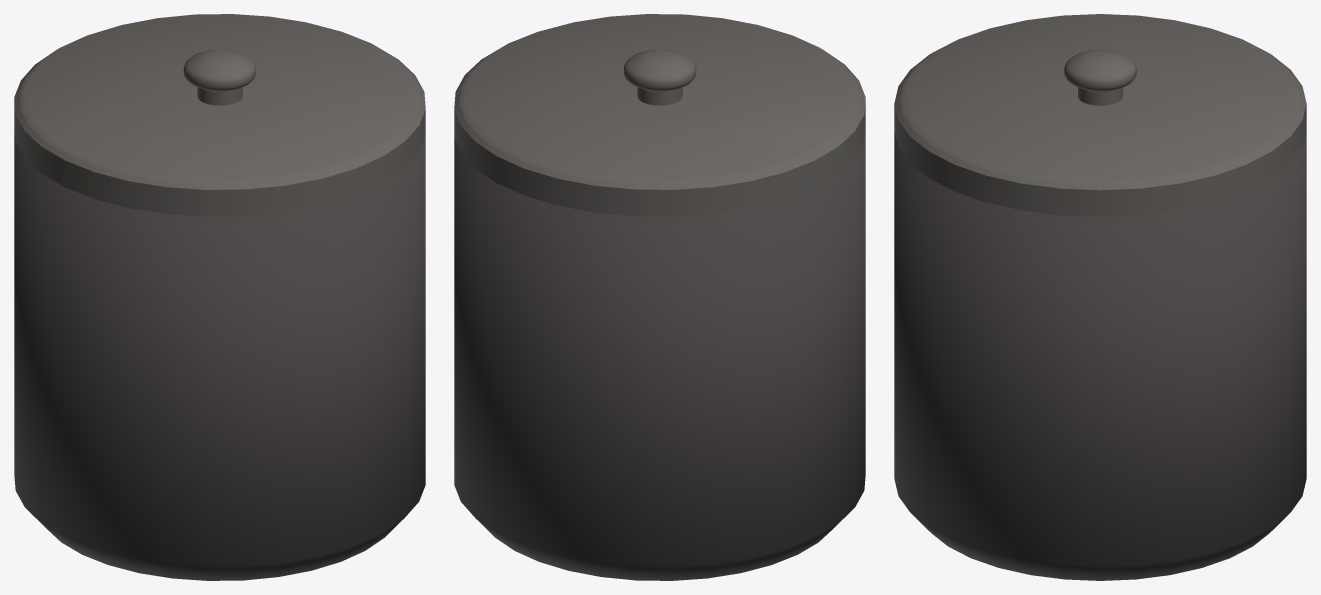
Rendered from Assets.fbx_Dose_Dunkel.fbx.
The picture shows the model from 3 angles, left to right: view 1: azimuth 30°, elevation 25°; view 2: azimuth 150°, elevation 25°; view 3: azimuth 270°, elevation 25°; orthographic projection.
Parts seen in each view (by area): view 1: Glas.001, Deckel.001; view 2: Glas.001, Deckel.001; view 3: Glas.001, Deckel.001.
Boxes of the visible parts, box(x1,y1,x2,y2) form: Glas.001: box(14, 127, 425, 580); Deckel.001: box(14, 14, 425, 216); Glas.001: box(454, 127, 865, 580); Deckel.001: box(454, 14, 865, 216); Glas.001: box(894, 130, 1306, 580); Deckel.001: box(894, 14, 1306, 216).
Bounding box in the file's own units: 18.22 × 21.81 × 18.22.
